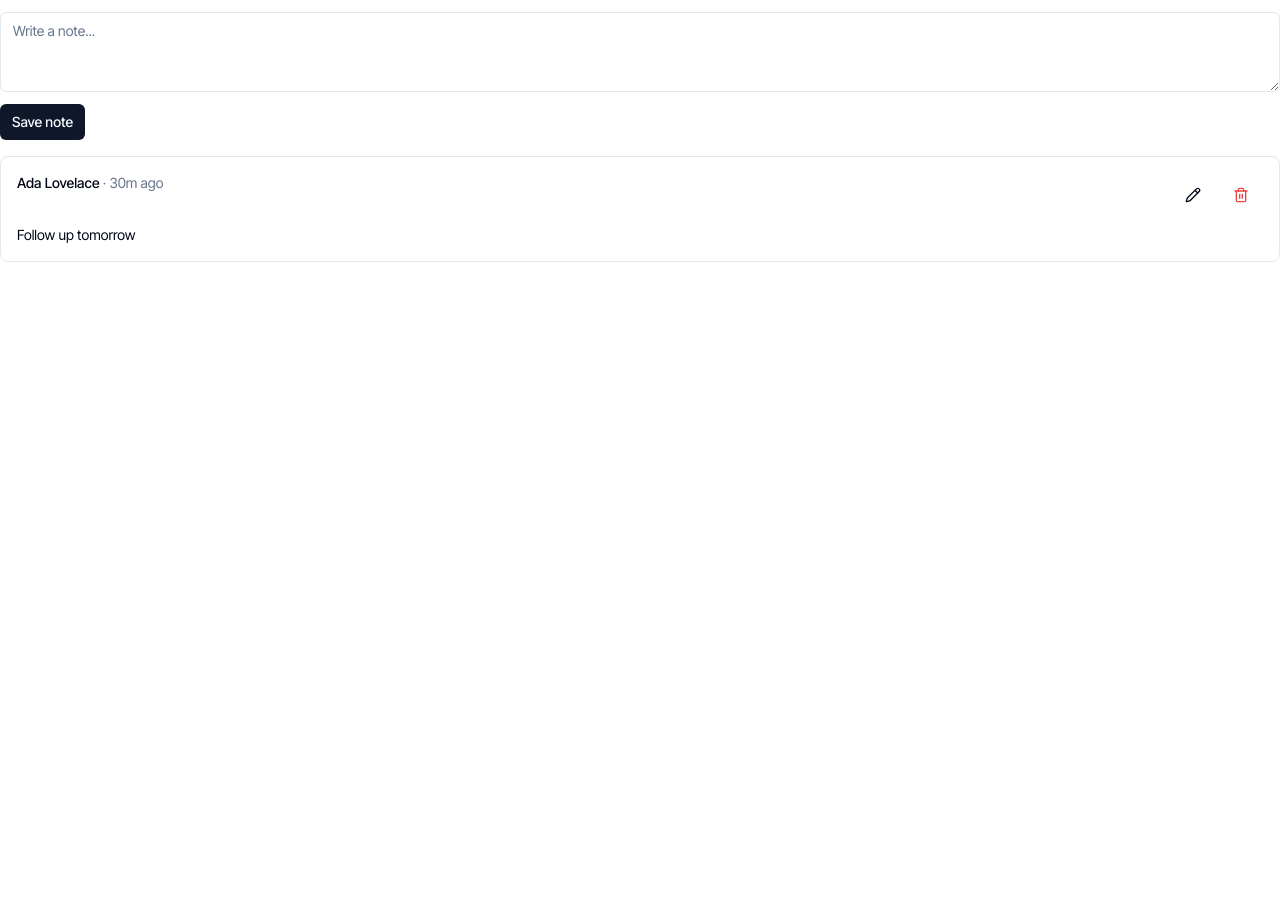
Test: NotesPanel › edits an authored note and closes the dialog after saving
This screenshot has width=1280, height=900.
Click the button named "Edit note by Ada Lovelace" at coordinates (1193, 195), box [1171,173,1215,217]
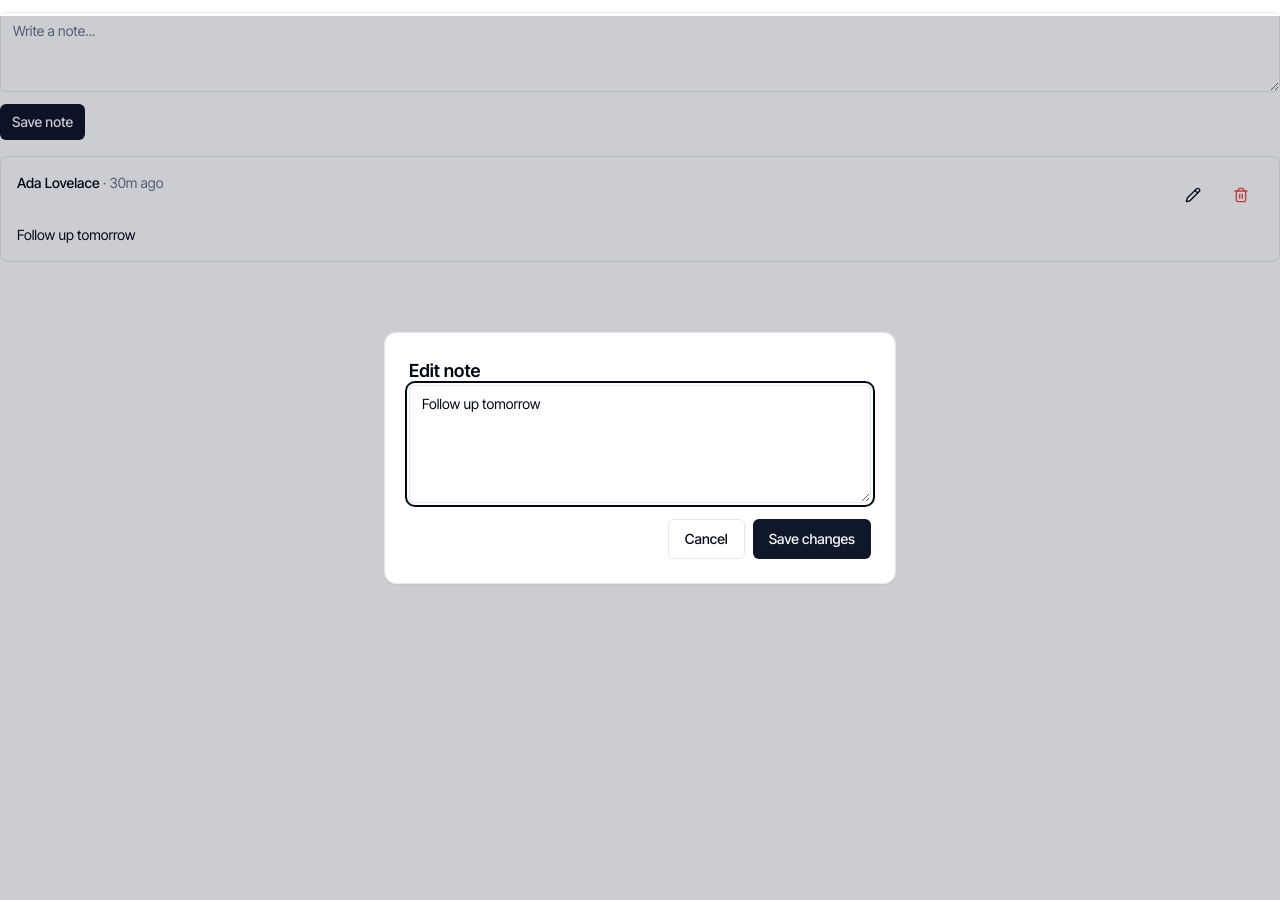
Now the text box named "Edit note" holds "Follow up tomorrow"
Replace the text in the text box named "Edit note" with "Updated follow-up" at coordinates (640, 444), box [409,385,871,503]
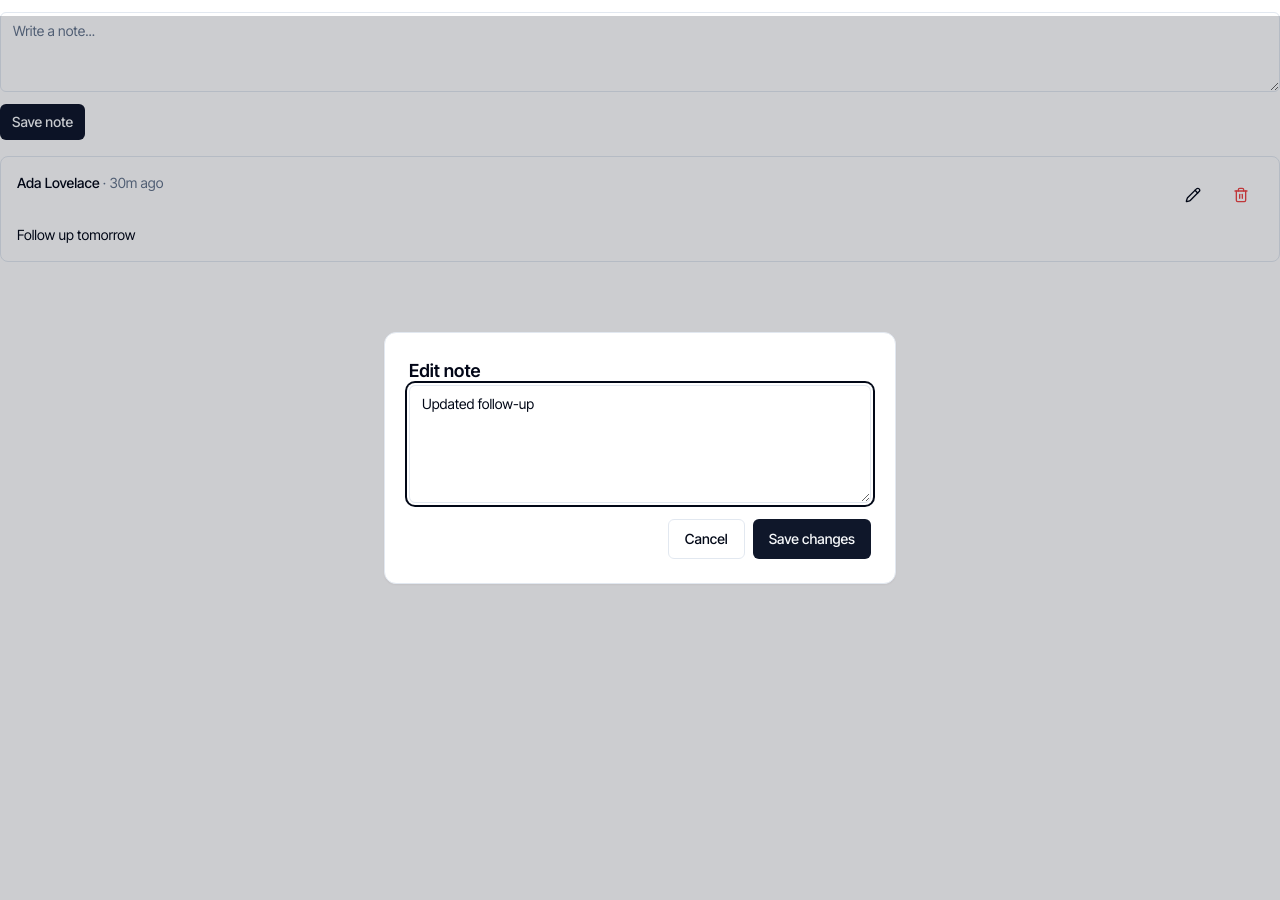
Click the button "Save changes" at coordinates (812, 539), box [753,519,871,559]
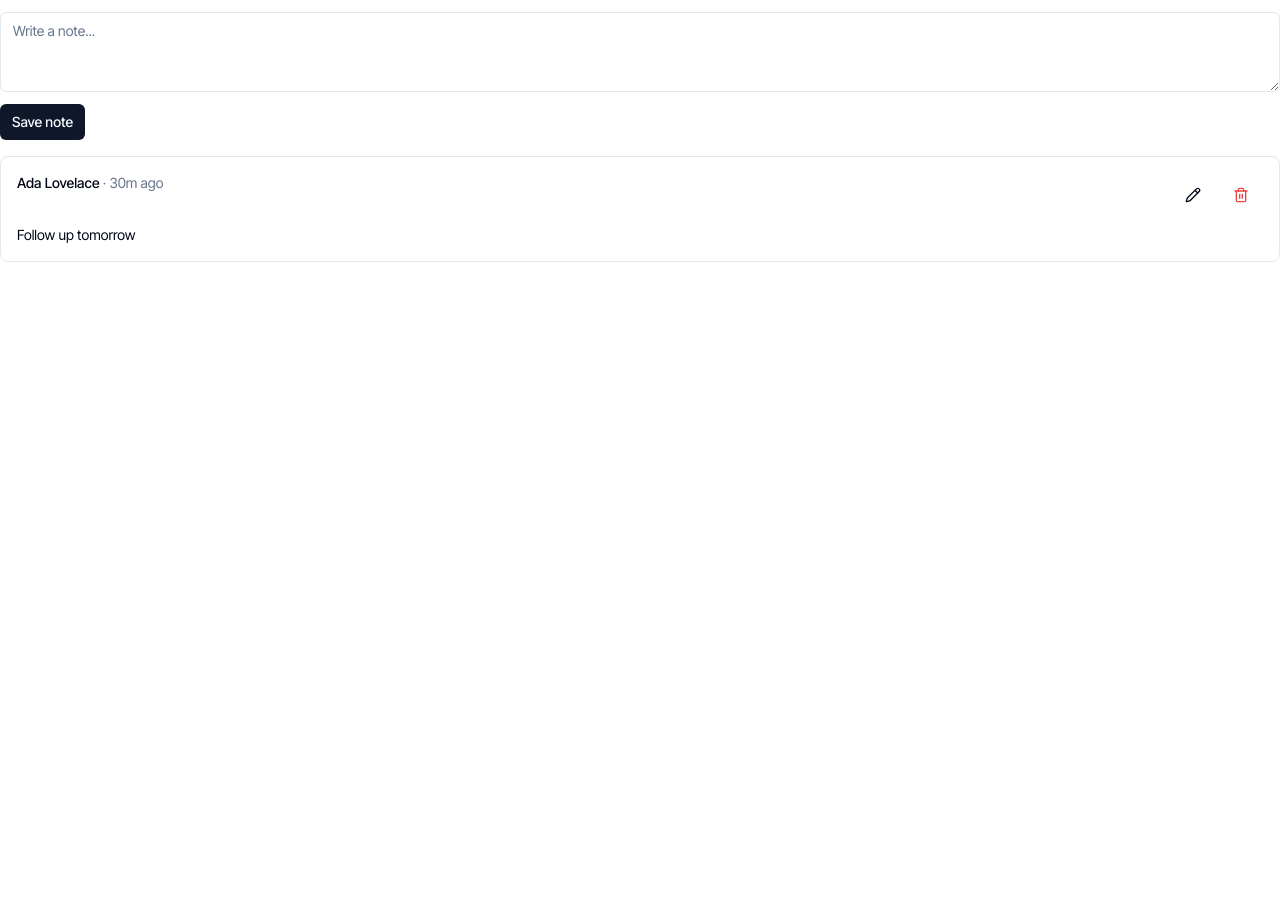
Now the dialog is gone
